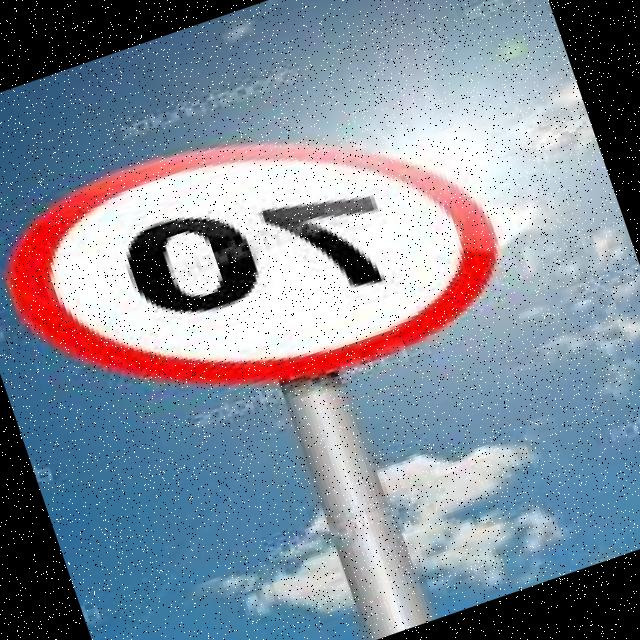speed_limit_70: (0, 52, 535, 475)
